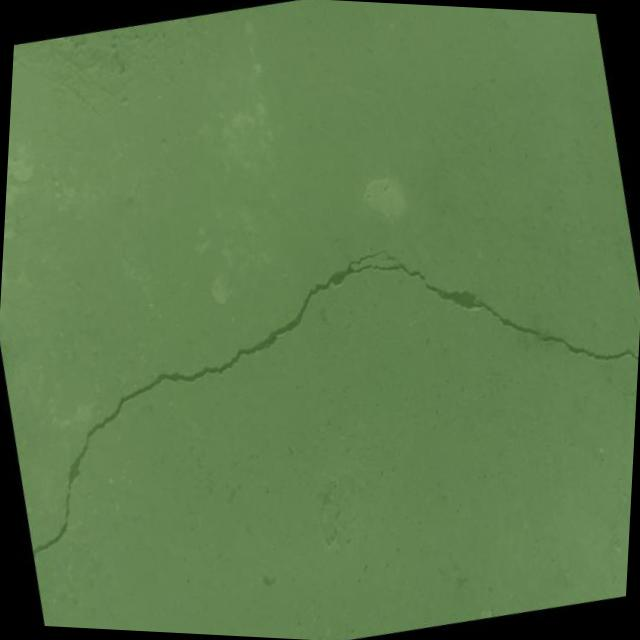crack: (0, 177, 640, 590), (612, 378, 638, 399)
